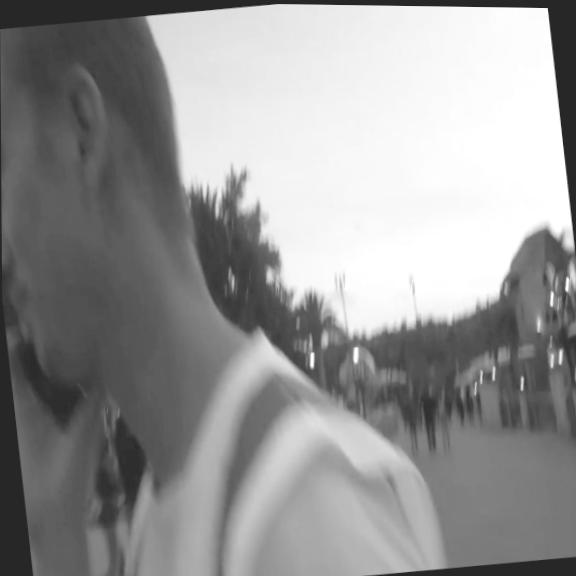safety_vest: (92, 307, 449, 576)
